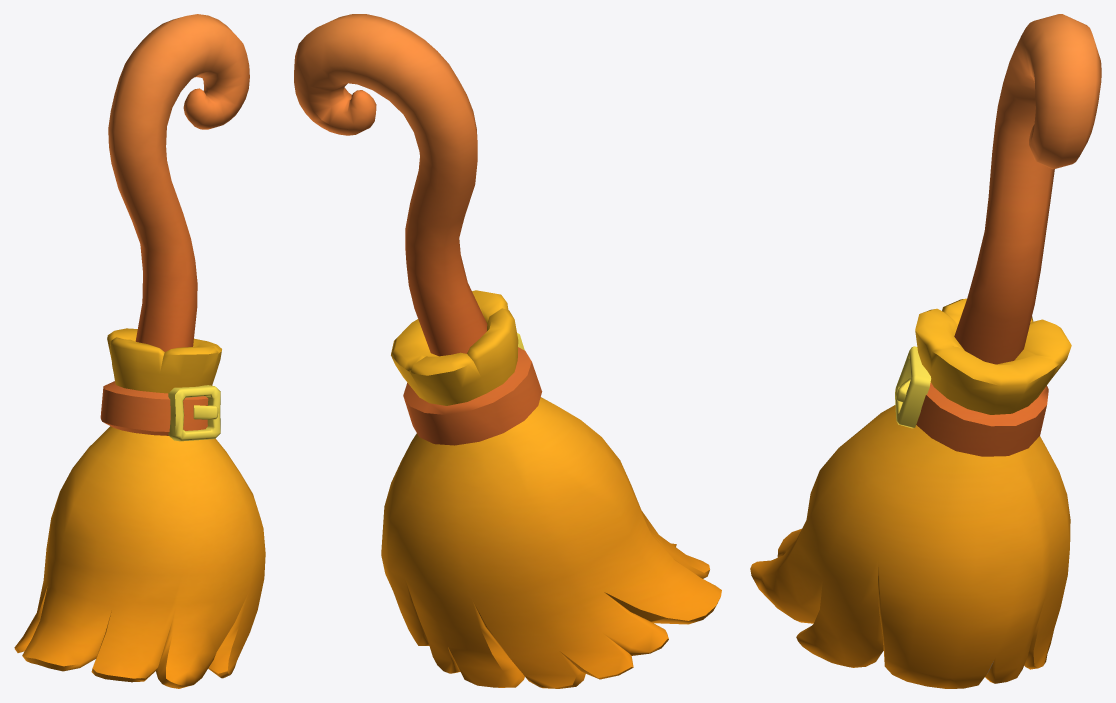
Rendered from WBA_Witch_Broom_Set_01.fbx.
The picture shows the model from 3 angles, left to right: view 1: azimuth 30°, elevation 25°; view 2: azimuth 150°, elevation 25°; view 3: azimuth 270°, elevation 25°; orthographic projection. The views are drawn at different scales.
Visible parts, largest first — view 1: WBA_Witch_Broom_Set_01; view 2: WBA_Witch_Broom_Set_01; view 3: WBA_Witch_Broom_Set_01.
Part boxes in pixels (bbox=[...]): WBA_Witch_Broom_Set_01: bbox=[14, 14, 265, 688]; WBA_Witch_Broom_Set_01: bbox=[294, 14, 721, 688]; WBA_Witch_Broom_Set_01: bbox=[750, 14, 1101, 688].
Bounding box in the file's own units: 39.87 × 74.46 × 34.57.
